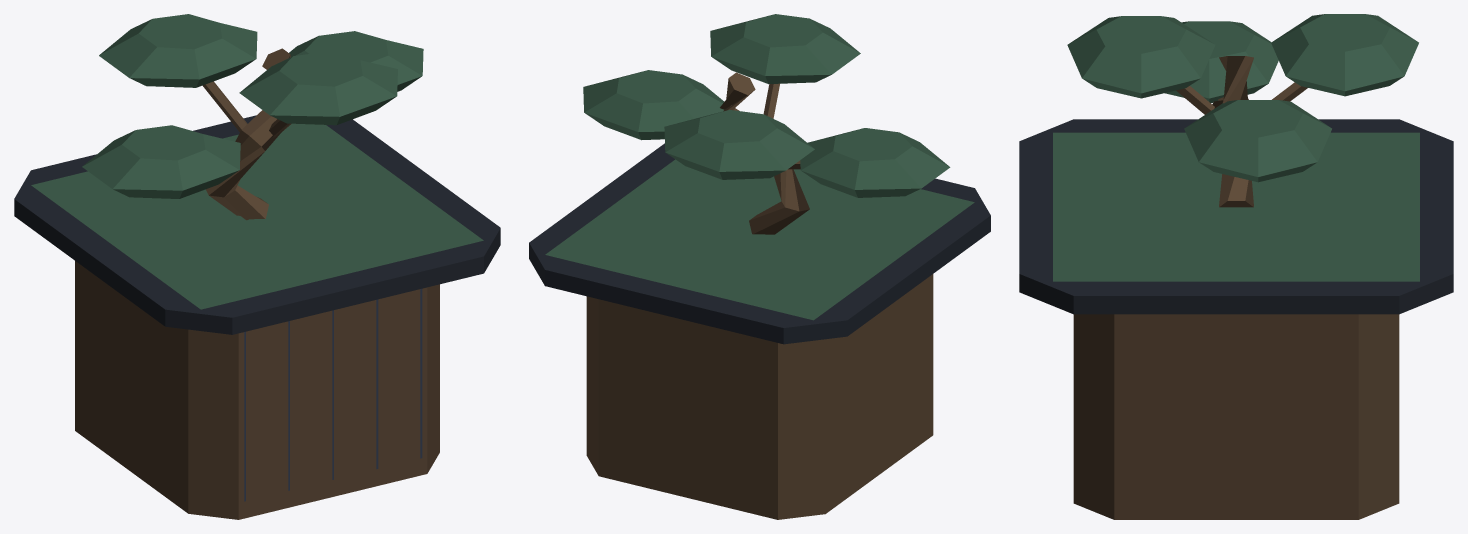
Rendered from res_bonsai_pedestal.glb.
3 renders of one model, left to right at view 1: azimuth 30°, elevation 25°; view 2: azimuth 150°, elevation 25°; view 3: azimuth 270°, elevation 25°, orthographic. The views are drawn at different scales.
Visible parts, largest first — view 1: bonsai_branch, cloud_pruned_foliage, bonsai_tray, walnut_reeding; view 2: cloud_pruned_foliage, bonsai_branch, bonsai_tray; view 3: cloud_pruned_foliage, bonsai_branch, bonsai_tray.
Boxes of the visible parts, bbox=[...] form: bonsai_branch: bbox=[75, 48, 439, 519]; cloud_pruned_foliage: bbox=[31, 14, 483, 309]; bonsai_tray: bbox=[14, 115, 500, 334]; walnut_reeding: bbox=[244, 288, 422, 501]; cloud_pruned_foliage: bbox=[545, 14, 974, 320]; bonsai_branch: bbox=[586, 72, 933, 519]; bonsai_tray: bbox=[529, 143, 990, 344]; cloud_pruned_foliage: bbox=[1053, 14, 1419, 281]; bonsai_branch: bbox=[1073, 56, 1399, 519]; bonsai_tray: bbox=[1019, 119, 1453, 314].
Size of the model in its own units: 1.6 by 1.75 by 1.6.
